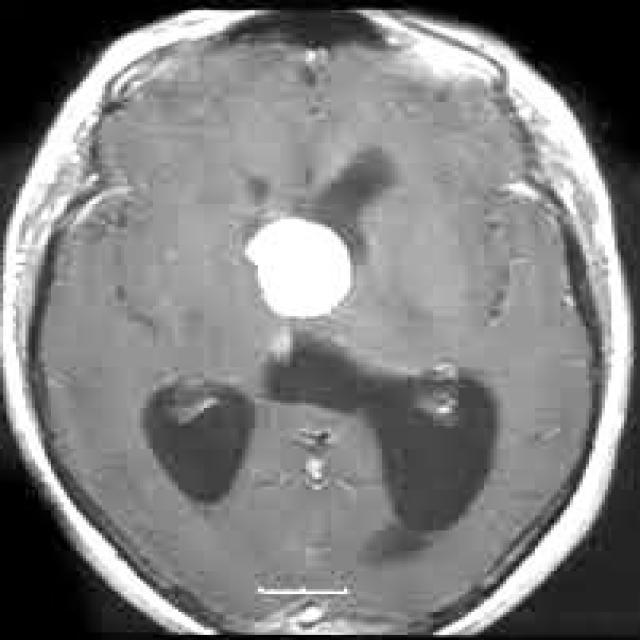Tumor: (242, 214, 358, 324)
